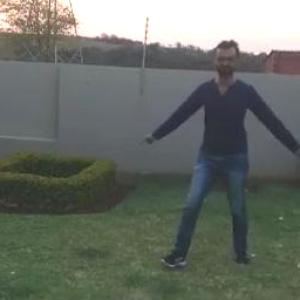land: (169, 50, 287, 224)
